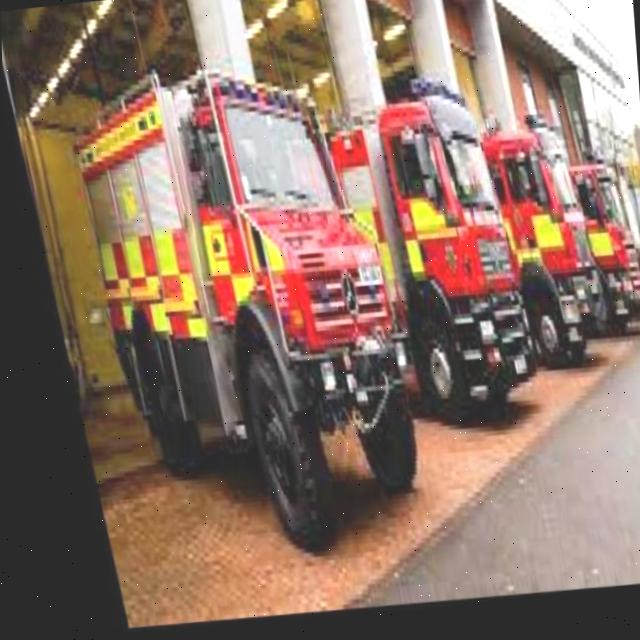emergency: (66, 47, 423, 576), (325, 77, 540, 444), (478, 114, 603, 383), (561, 159, 640, 352)
